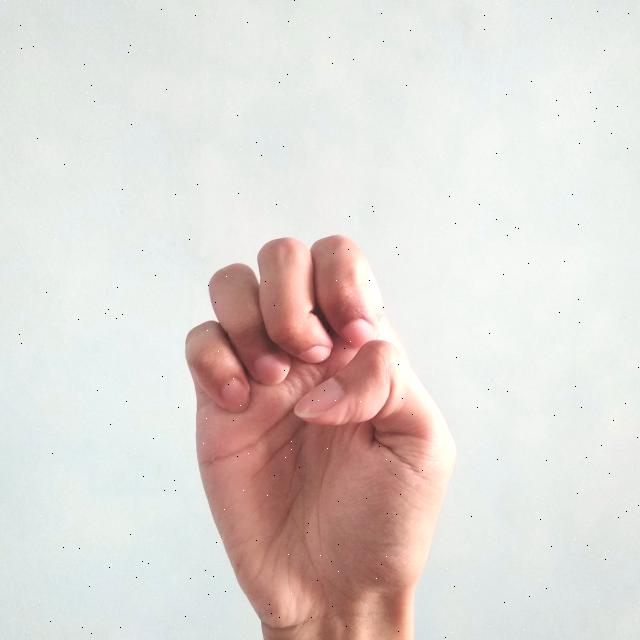E: (174, 230, 454, 640)
